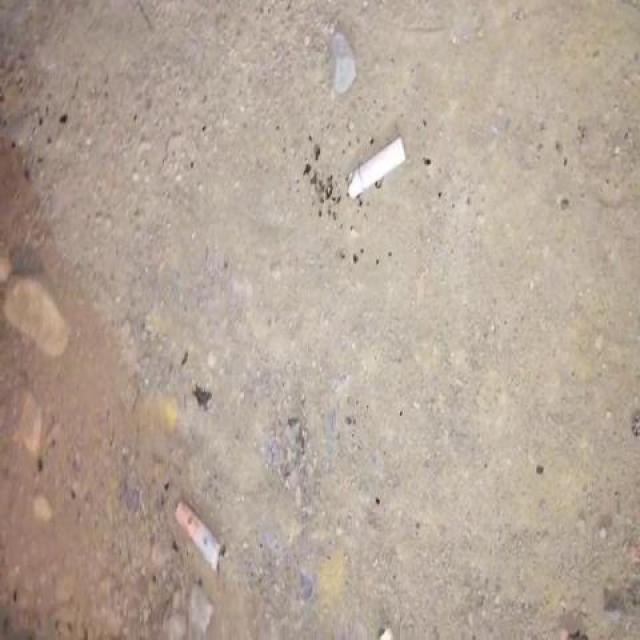non-organic waste: (169, 498, 235, 575), (342, 130, 410, 202)
